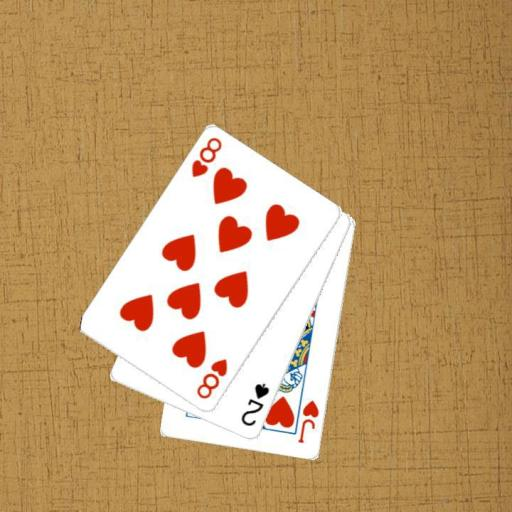2S: (237, 380, 271, 428)
8H: (193, 356, 229, 401), (188, 135, 224, 180)
JH: (295, 398, 321, 445)
